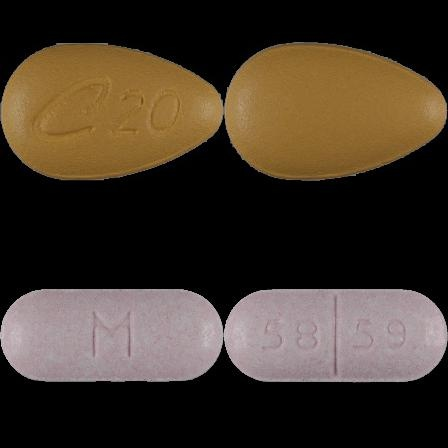43063-236: (0, 0, 224, 224)
